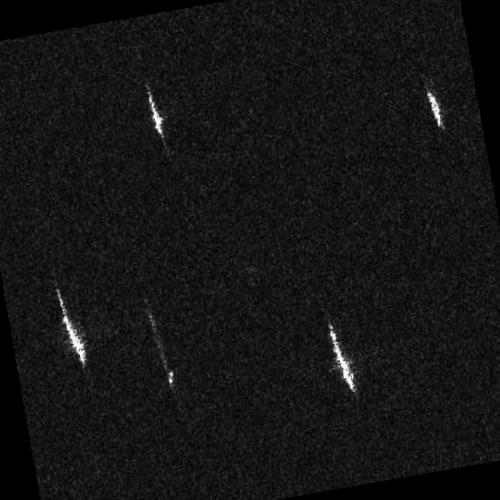ship: (56, 289, 87, 366), (146, 309, 174, 390), (327, 323, 356, 393), (147, 89, 164, 139), (426, 89, 444, 128)
